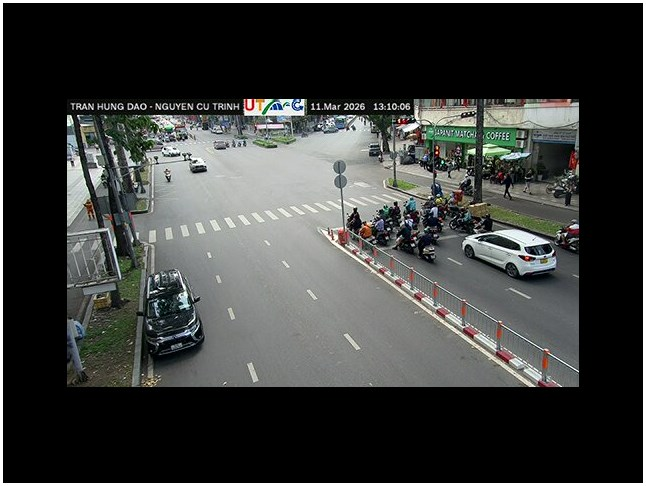car: (140, 268, 204, 358), (463, 229, 558, 279), (557, 220, 579, 252), (189, 158, 207, 173), (368, 143, 382, 158)
motorbike: (401, 229, 439, 263), (411, 231, 439, 263)
